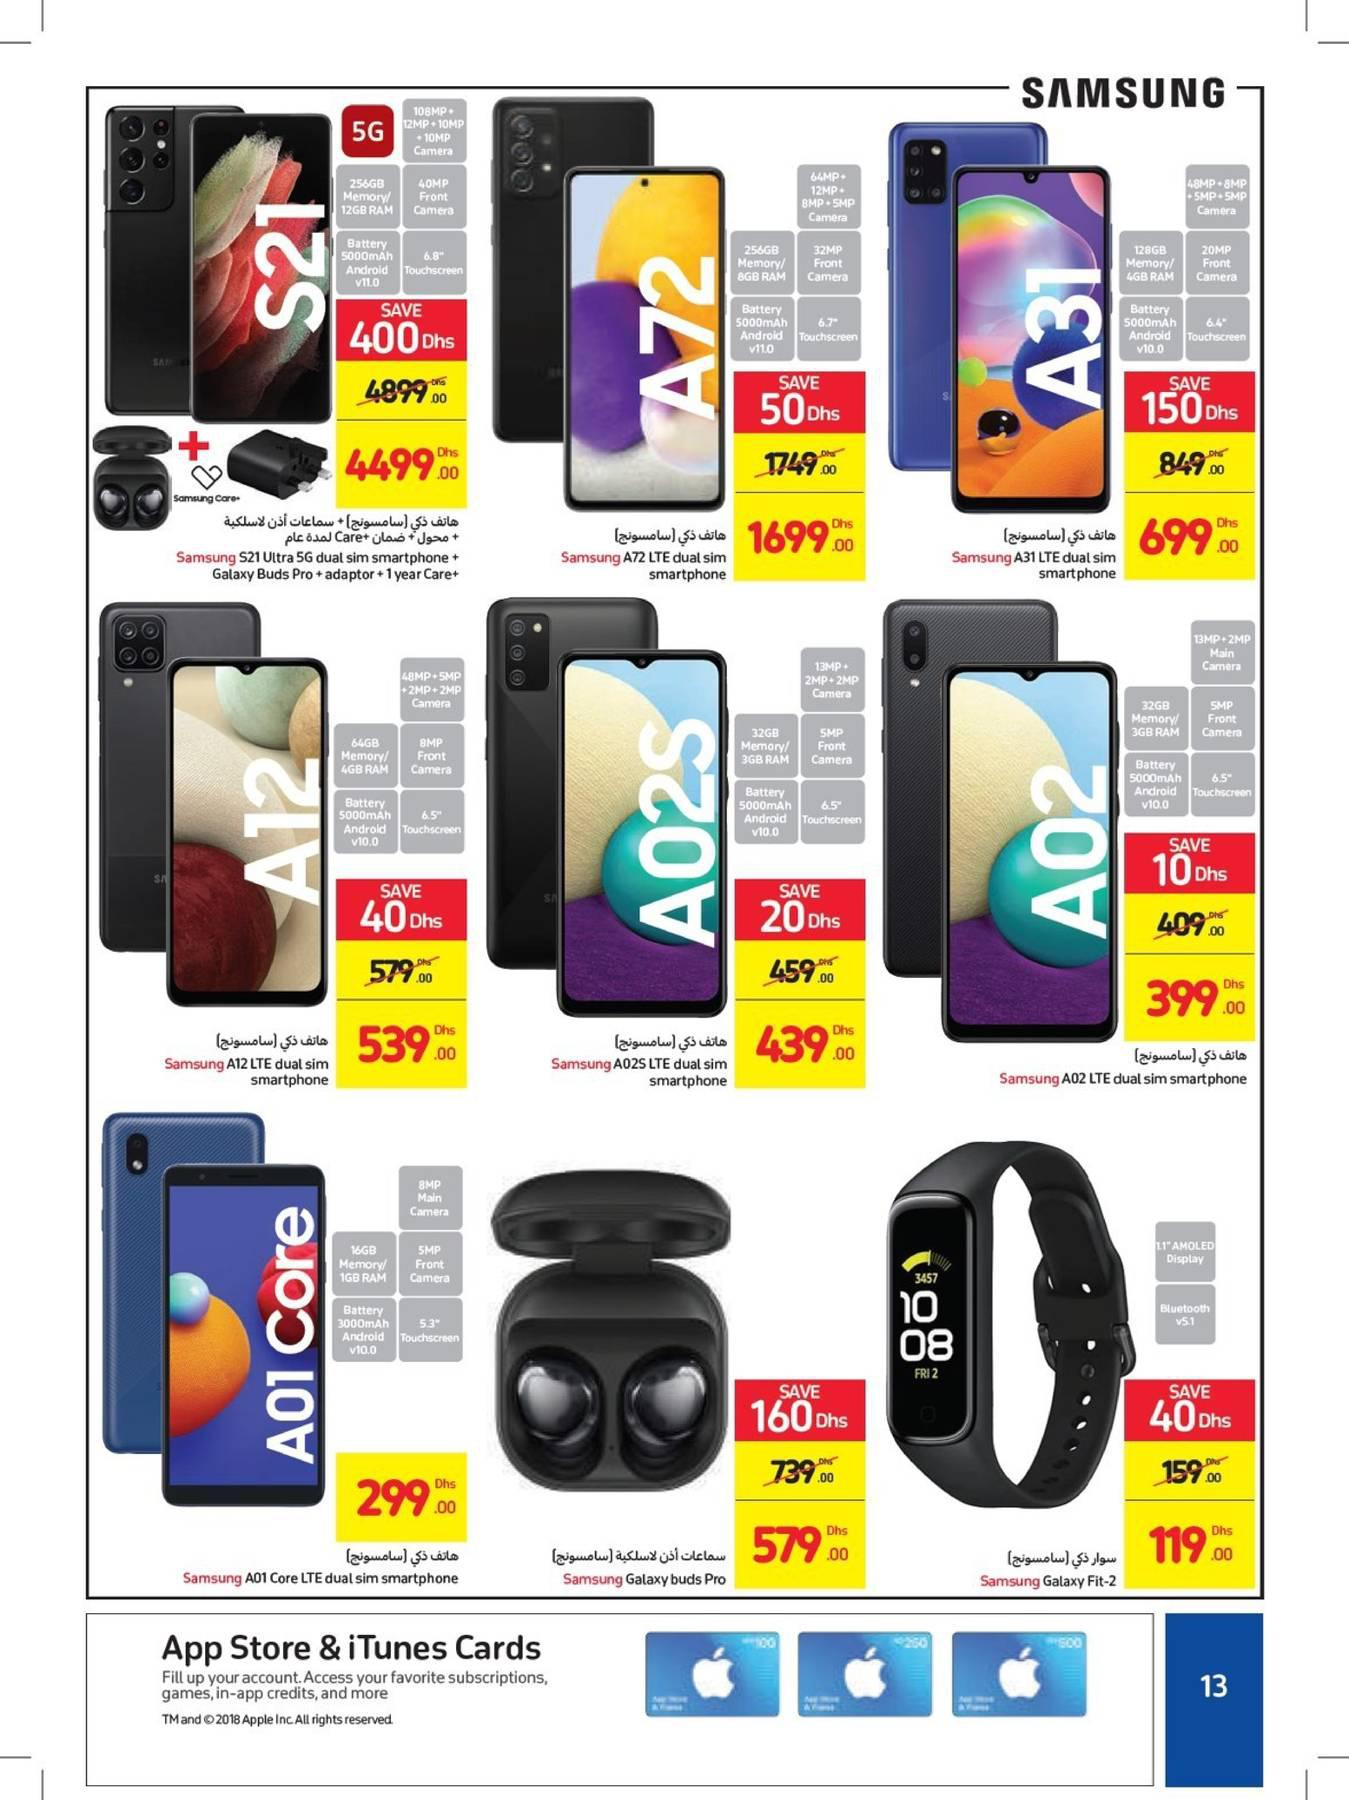text: (1009, 67, 1234, 120), (167, 546, 479, 584), (214, 509, 468, 547), (925, 544, 1127, 587), (982, 1064, 1251, 1096), (546, 1047, 734, 1090), (159, 1047, 334, 1093), (557, 546, 735, 587), (171, 1568, 468, 1590), (544, 1543, 728, 1573), (191, 1025, 332, 1057), (400, 1232, 465, 1293), (1128, 755, 1187, 821), (334, 1297, 393, 1363), (395, 794, 465, 849), (395, 665, 466, 719), (332, 792, 394, 853), (1153, 1225, 1219, 1283), (1189, 624, 1255, 680), (796, 653, 866, 707), (558, 1569, 733, 1590), (401, 1169, 462, 1229), (735, 781, 796, 840), (988, 524, 1122, 551), (602, 1028, 734, 1054), (604, 520, 728, 549), (996, 1543, 1127, 1570), (976, 1570, 1119, 1594), (332, 1240, 393, 1294), (332, 1546, 472, 1569), (1195, 692, 1253, 746), (1117, 1045, 1253, 1067), (1152, 1293, 1216, 1339), (1192, 760, 1255, 806), (803, 720, 860, 772), (1125, 694, 1185, 744), (737, 723, 794, 772), (799, 788, 863, 832), (339, 731, 394, 781), (402, 736, 461, 782)
